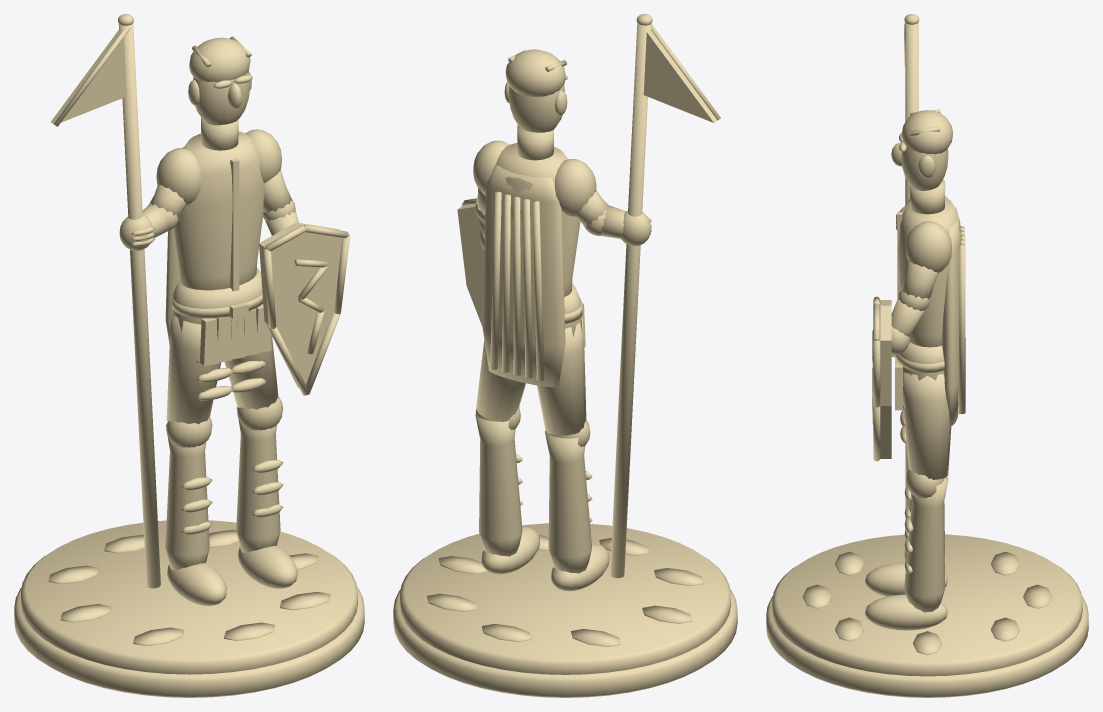
The model's file is knight-beige-level-1-bare.fbx.
3 views of the same model, side by side, from view 1: azimuth 30°, elevation 25°; view 2: azimuth 150°, elevation 25°; view 3: azimuth 270°, elevation 25° (orthographic). The views are drawn at different scales.
Parts seen in each view (by area): view 1: Knight_Level_1_Bare_Sculpt; view 2: Knight_Level_1_Bare_Sculpt; view 3: Knight_Level_1_Bare_Sculpt.
Boxes of the visible parts, x1=… form: Knight_Level_1_Bare_Sculpt: x1=14, y1=14, x2=364, y2=697; Knight_Level_1_Bare_Sculpt: x1=393, y1=14, x2=737, y2=697; Knight_Level_1_Bare_Sculpt: x1=766, y1=14, x2=1088, y2=697.
Bounding box in the file's own units: 0.012 × 0.024 × 0.012.
